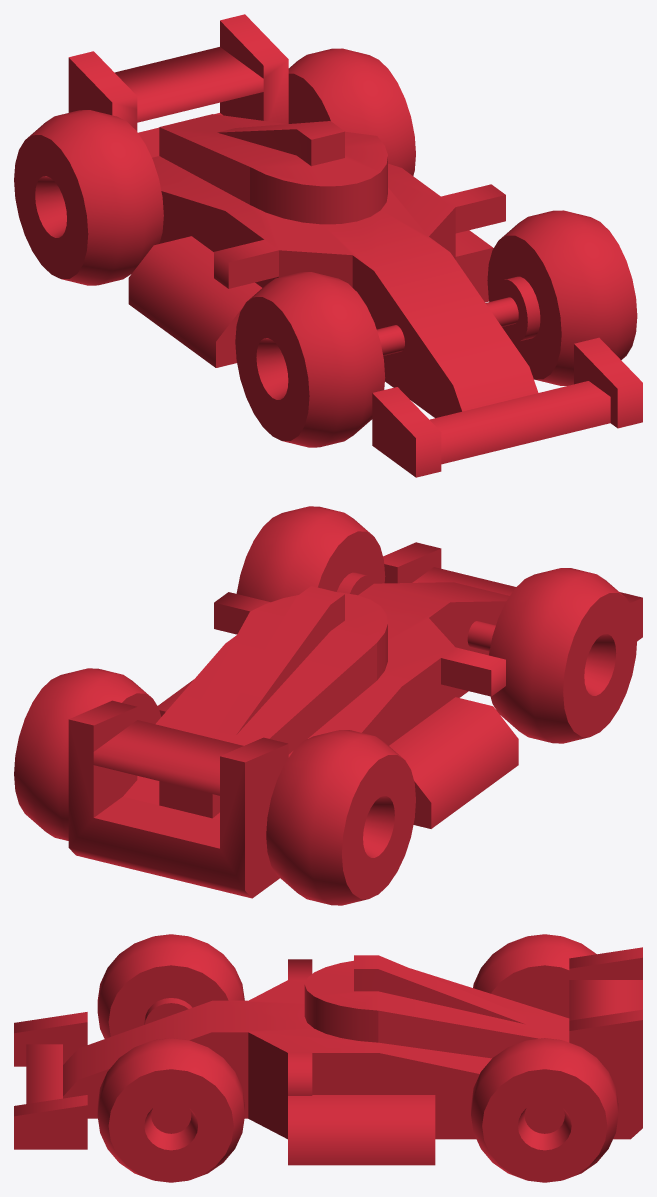
File: race.glb
The picture shows the model from 3 angles, top to bottom: view 1: azimuth 30°, elevation 25°; view 2: azimuth 150°, elevation 25°; view 3: azimuth 270°, elevation 25°; orthographic projection. The views are drawn at different scales.
Parts seen in each view (by area): view 1: body, wheel-back-right, wheel-front-right, wheel-front-left, wheel-back-left; view 2: body, wheel-back-right, wheel-front-right, wheel-back-left, wheel-front-left; view 3: body, wheel-back-left, wheel-front-left, wheel-front-right, wheel-back-right.
Part boxes in pixels (x1=…): body: x1=68, y1=14, x2=642, y2=477; wheel-back-right: x1=14, y1=110, x2=163, y2=285; wheel-front-right: x1=235, y1=272, x2=385, y2=447; wheel-front-left: x1=487, y1=210, x2=637, y2=385; wheel-back-left: x1=288, y1=48, x2=415, y2=175; body: x1=68, y1=542, x2=642, y2=898; wheel-back-right: x1=266, y1=730, x2=415, y2=905; wheel-front-right: x1=489, y1=568, x2=637, y2=743; wheel-back-left: x1=14, y1=668, x2=161, y2=840; wheel-front-left: x1=236, y1=506, x2=385, y2=602; body: x1=14, y1=947, x2=642, y2=1165; wheel-back-left: x1=471, y1=1038, x2=618, y2=1182; wheel-front-left: x1=97, y1=1038, x2=244, y2=1182; wheel-front-right: x1=97, y1=934, x2=244, y2=1038; wheel-back-right: x1=473, y1=934, x2=596, y2=1018.
Size of the model in its own units: 1.3 by 0.7325 by 2.56.
Materials: 1 (1 with a texture image).
